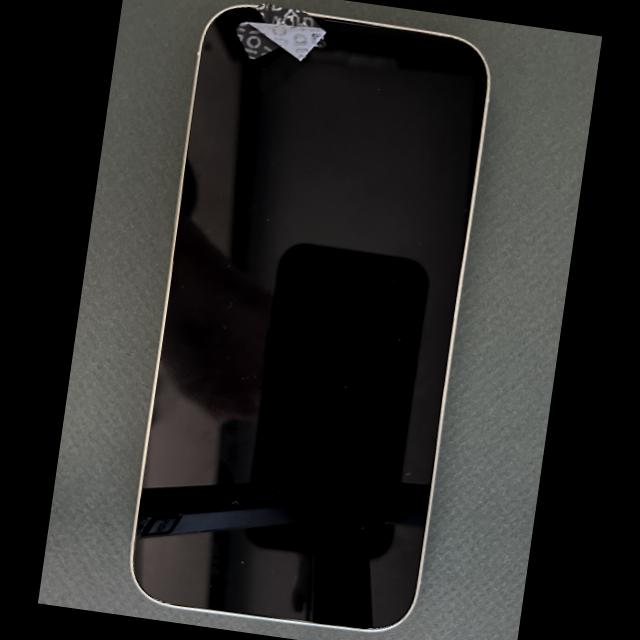phone: (128, 2, 491, 634)
sticker: (235, 21, 327, 62), (255, 3, 320, 27)
